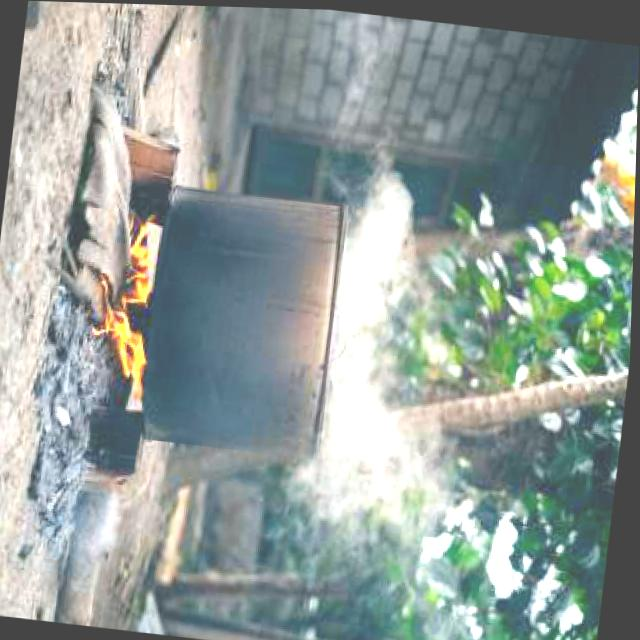Fire: (79, 203, 169, 413)
Smoke: (298, 162, 493, 533)
